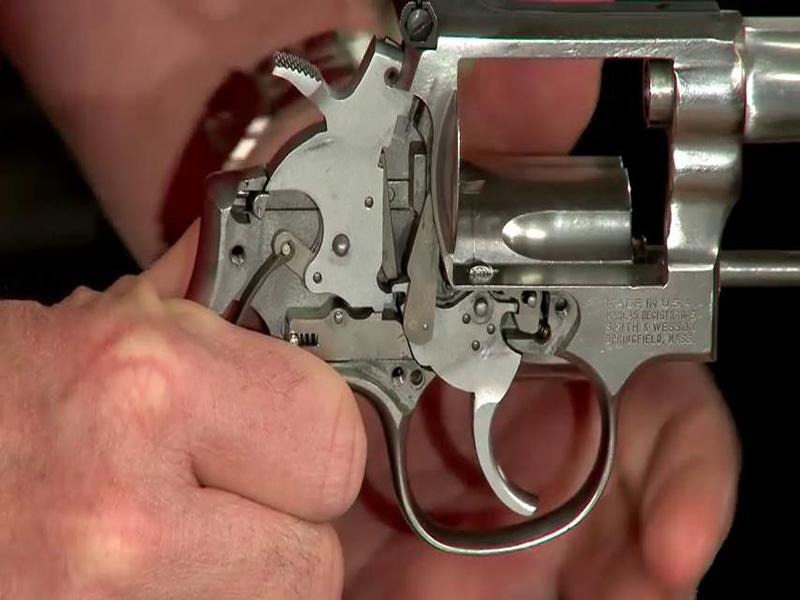Revolver: (119, 14, 797, 553)
